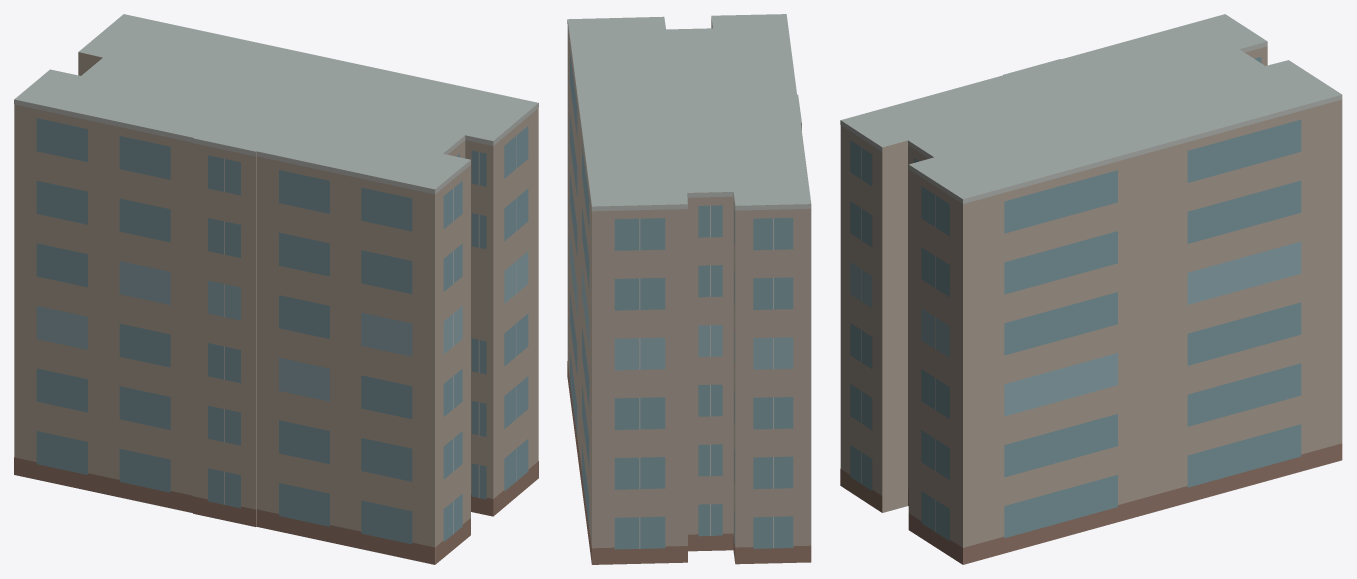
The model's file is survey-upis-32984282.glb.
The picture shows the model from 3 angles, left to right: view 1: azimuth 30°, elevation 25°; view 2: azimuth 150°, elevation 25°; view 3: azimuth 270°, elevation 25°; orthographic projection. The views are drawn at different scales.
Parts seen in each view (by area): view 1: survey-upis-32984282.tmp; view 2: survey-upis-32984282.tmp; view 3: survey-upis-32984282.tmp.
Part boxes in pixels (bbox=[...]): survey-upis-32984282.tmp: bbox=[14, 14, 538, 564]; survey-upis-32984282.tmp: bbox=[567, 14, 811, 564]; survey-upis-32984282.tmp: bbox=[840, 14, 1342, 564].
Bounding box in the file's own units: 20.23 × 18.6 × 23.15.
